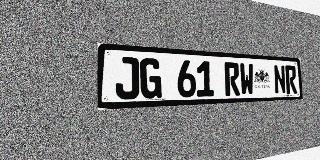1: (196, 61, 214, 97)
6: (177, 60, 196, 98)
G: (140, 58, 162, 99)
J: (115, 56, 139, 100)
N: (273, 65, 286, 94)
R: (224, 62, 240, 96), (285, 65, 297, 94)
W: (239, 63, 254, 95)
